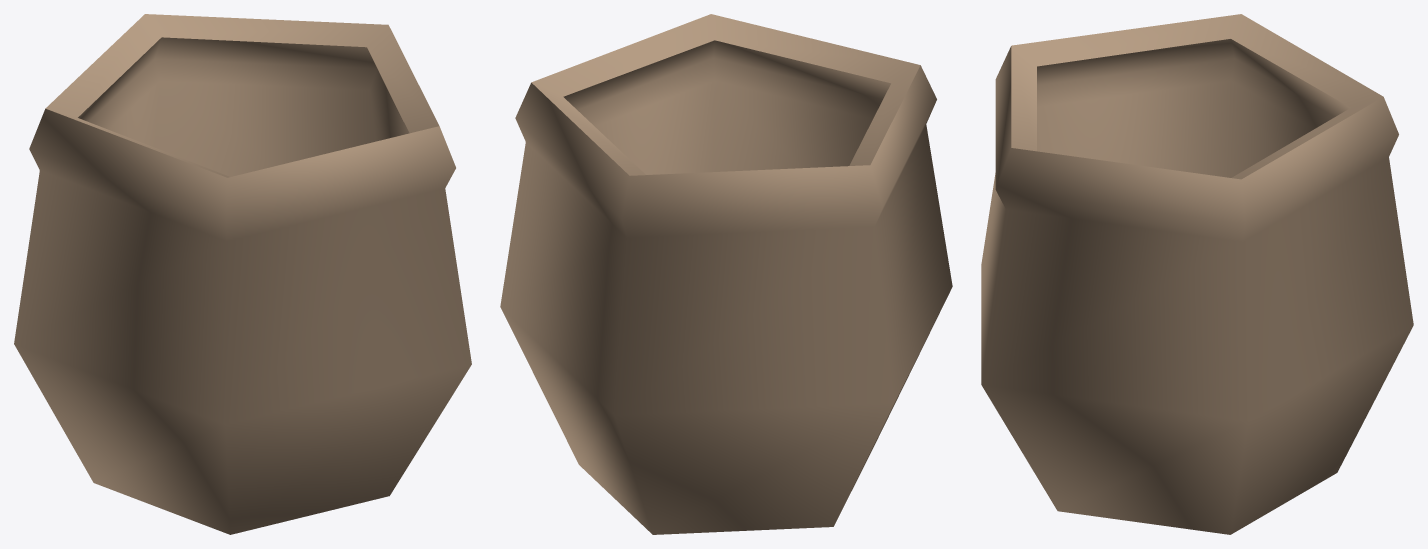
Rendered from SM_CupC.glb.
The picture shows the model from 3 angles, left to right: view 1: azimuth 30°, elevation 25°; view 2: azimuth 150°, elevation 25°; view 3: azimuth 270°, elevation 25°; orthographic projection.
Visible parts, largest first — view 1: SM_CupC; view 2: SM_CupC; view 3: SM_CupC.
Boxes of the visible parts, x1=… form: SM_CupC: x1=14, y1=14, x2=471, y2=534; SM_CupC: x1=500, y1=14, x2=952, y2=534; SM_CupC: x1=981, y1=14, x2=1413, y2=534.
Size of the model in its own units: 0.0973 by 0.0888 by 0.0925.
